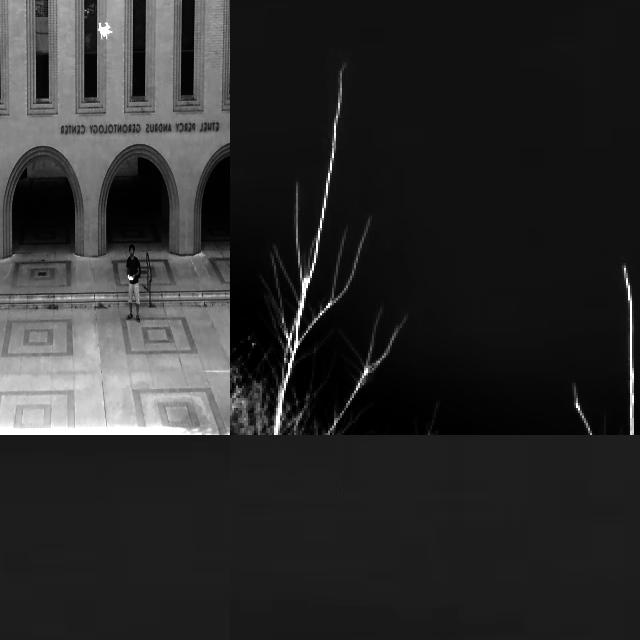0: (230, 159, 242, 189)
drone: (92, 19, 115, 41)
